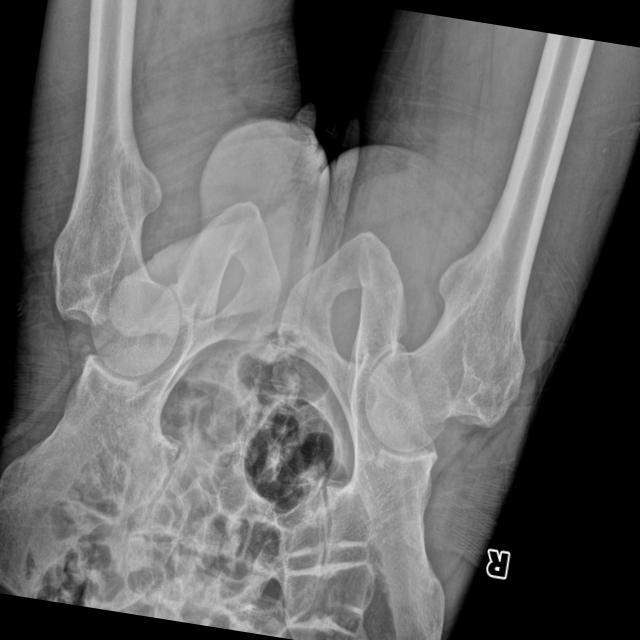normal-left: (49, 33, 177, 375)
normal-right: (365, 116, 569, 451)
